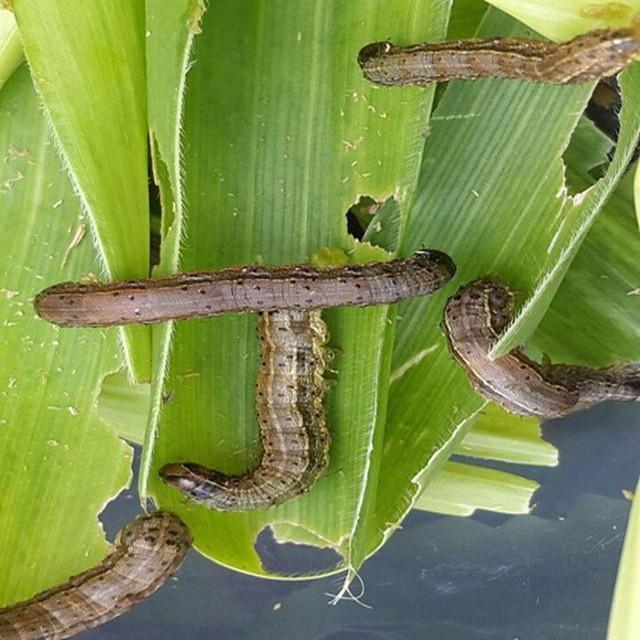gusano_cogollero: (35, 240, 453, 325), (168, 302, 335, 508), (448, 280, 640, 415), (0, 510, 187, 632), (356, 38, 632, 86)
